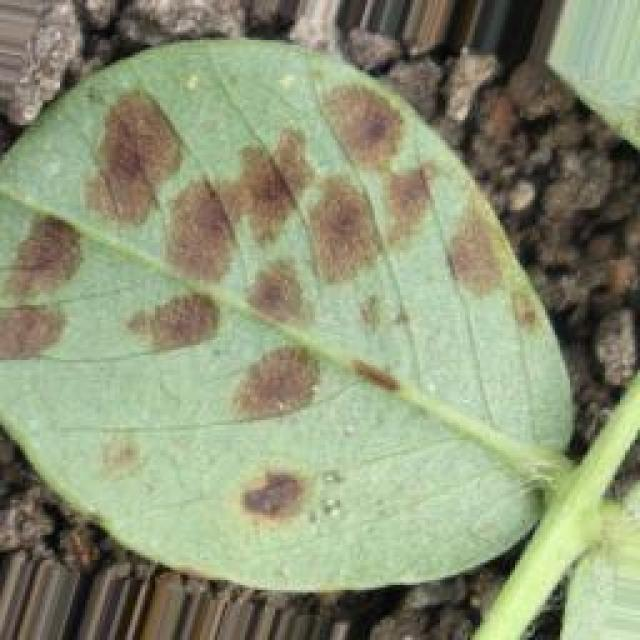Whitefly: (35, 0, 538, 539)
